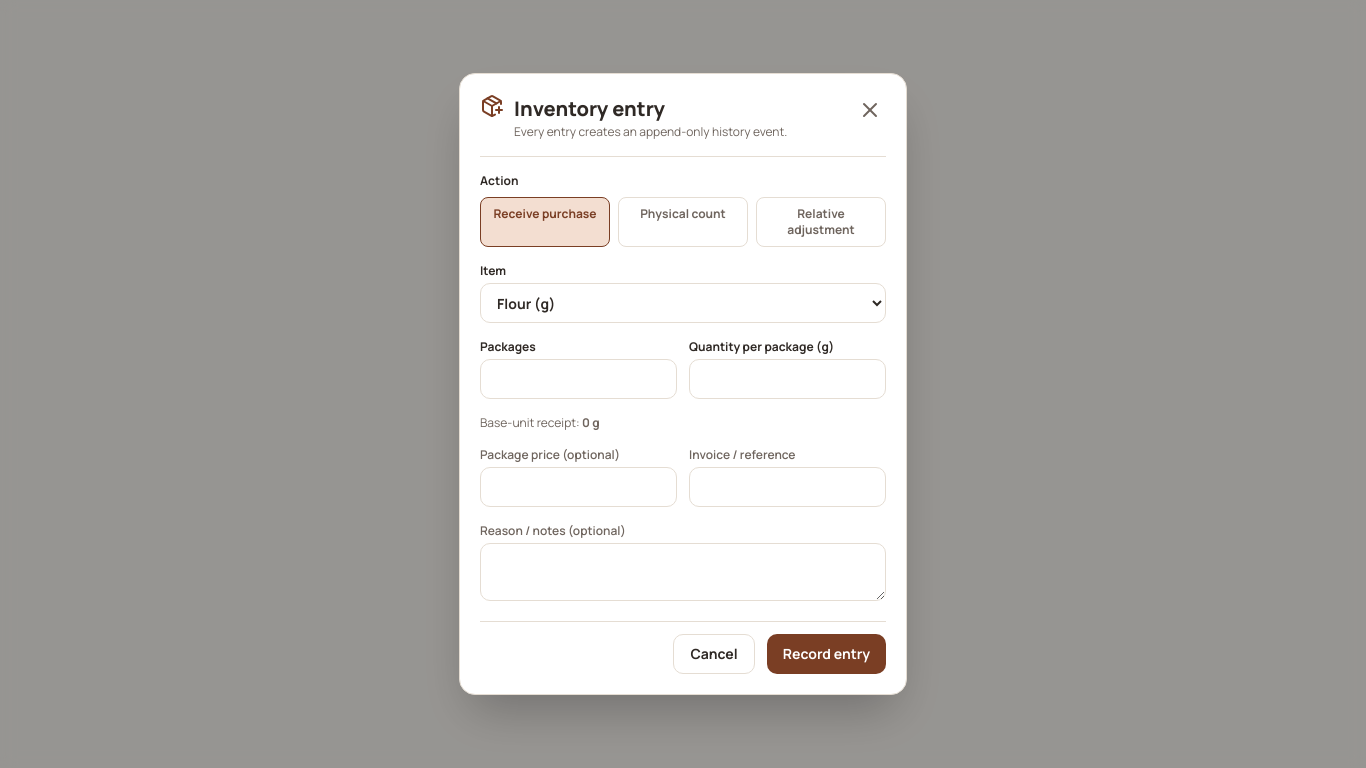
Test case: InventoryAdjustModal › keeps the form open and exposes a retry-safe mutation error
In the number field named "Package count": (578, 379) [480, 359, 677, 399], type "1"
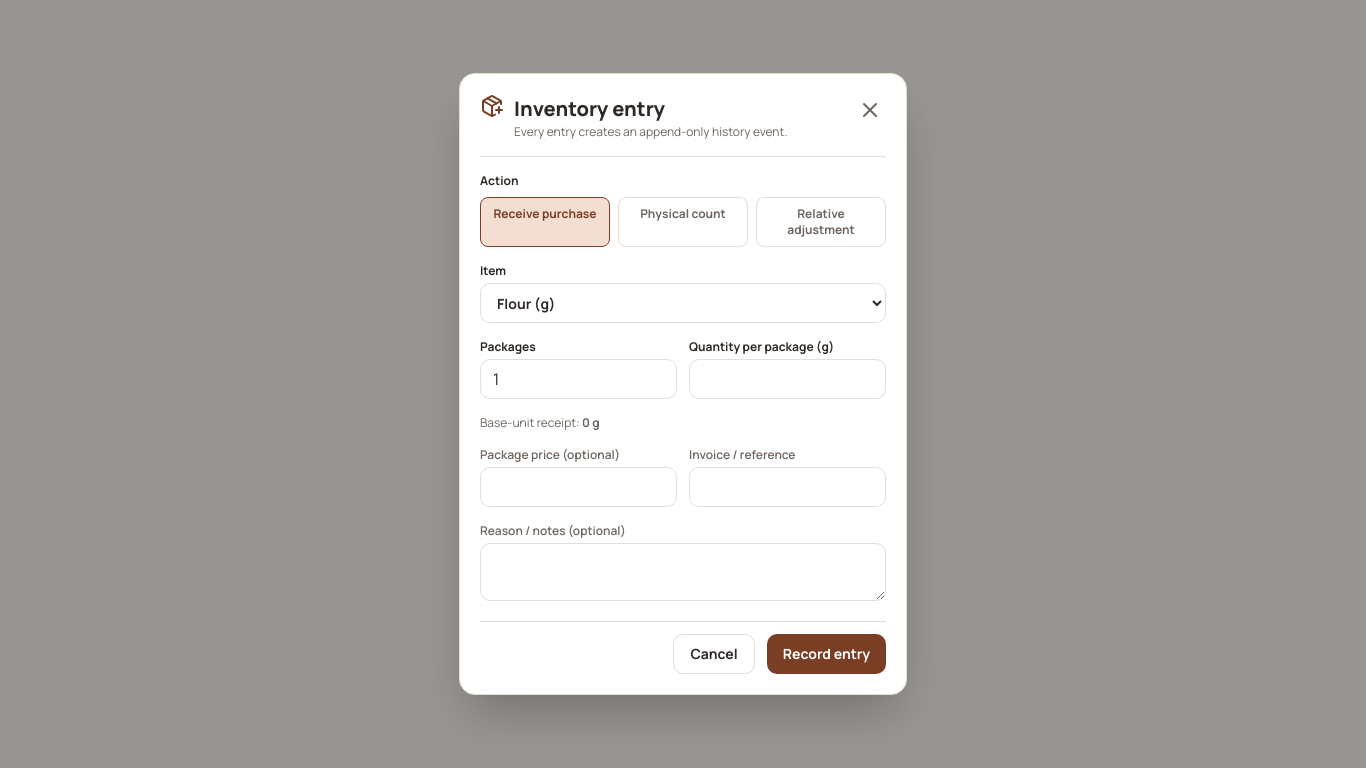
In the number field named "Package base-unit quantity": (788, 379) [689, 359, 886, 399], type "1000"
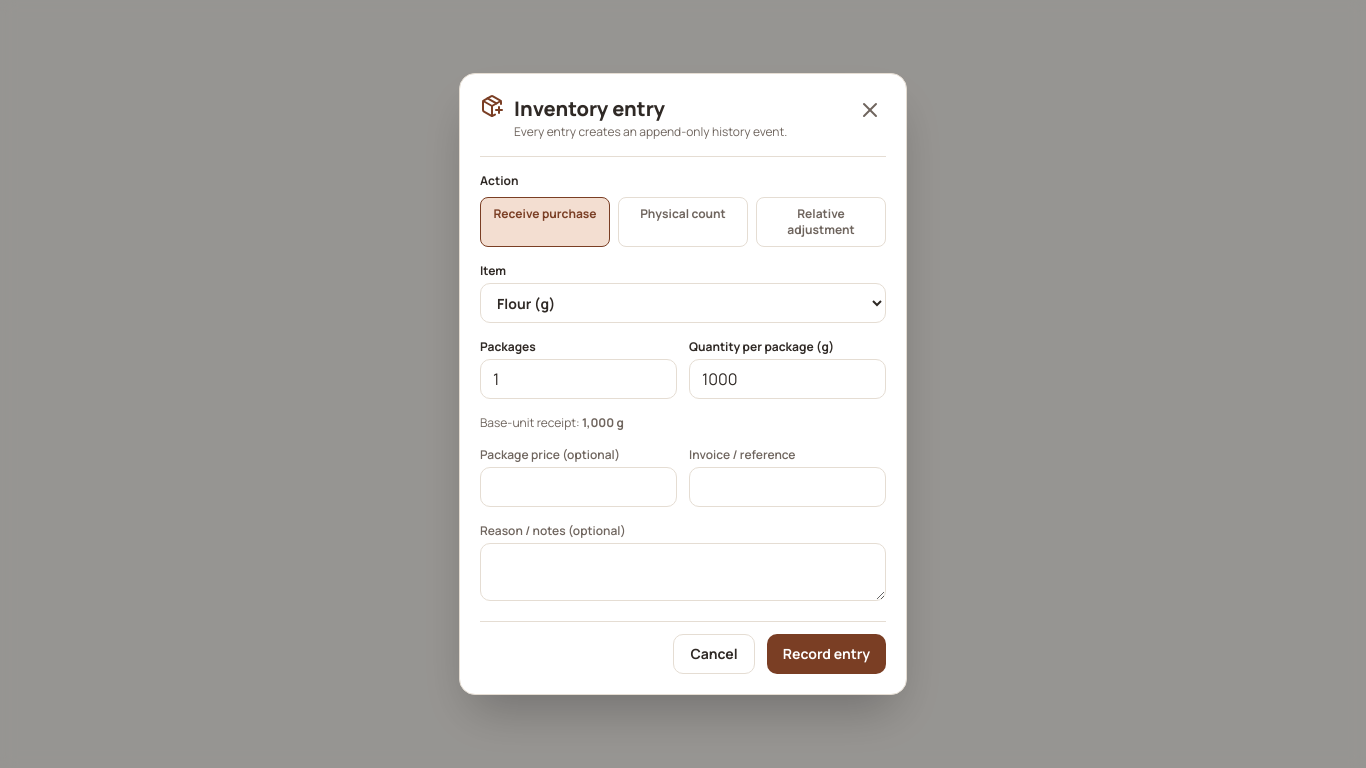
Click the button "Record entry": (826, 654) [767, 634, 886, 674]
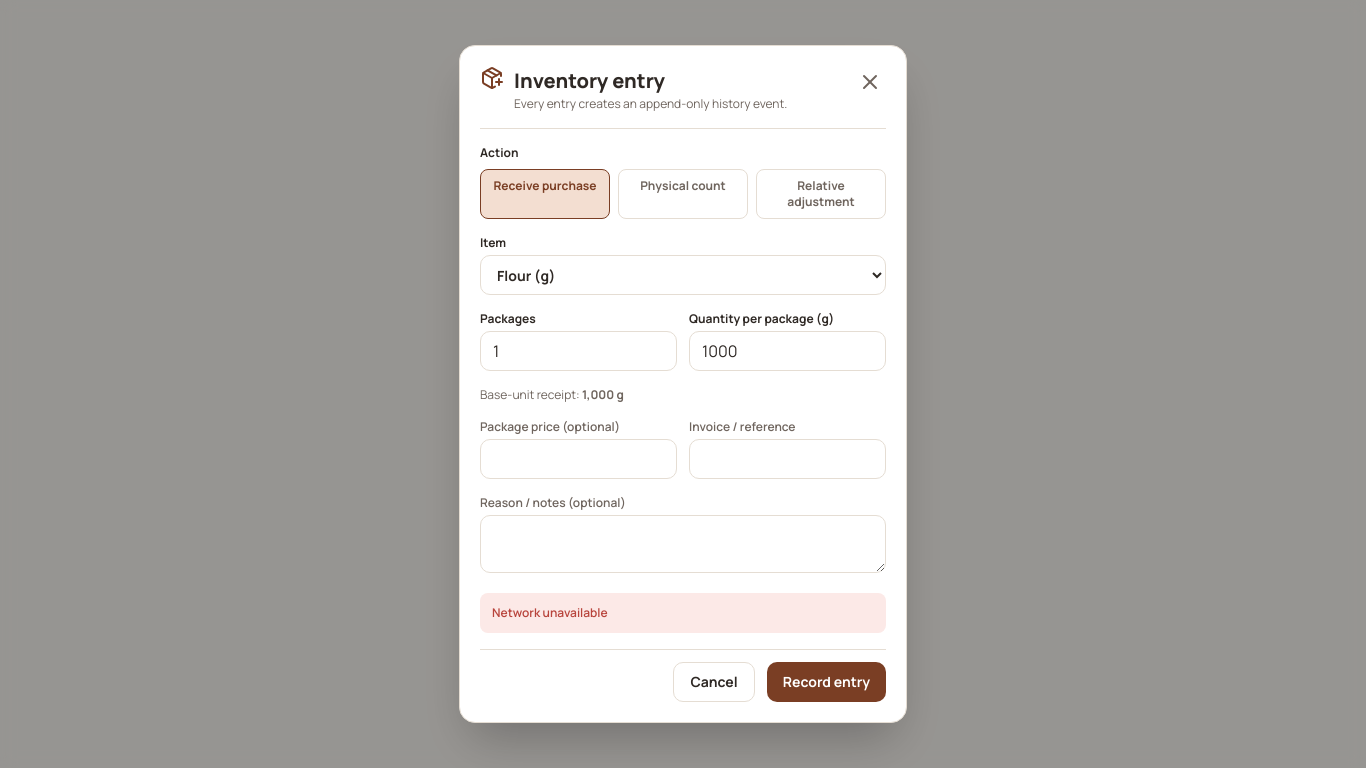
Expected: the message reads "Network unavailable", [492, 604, 608, 621]
